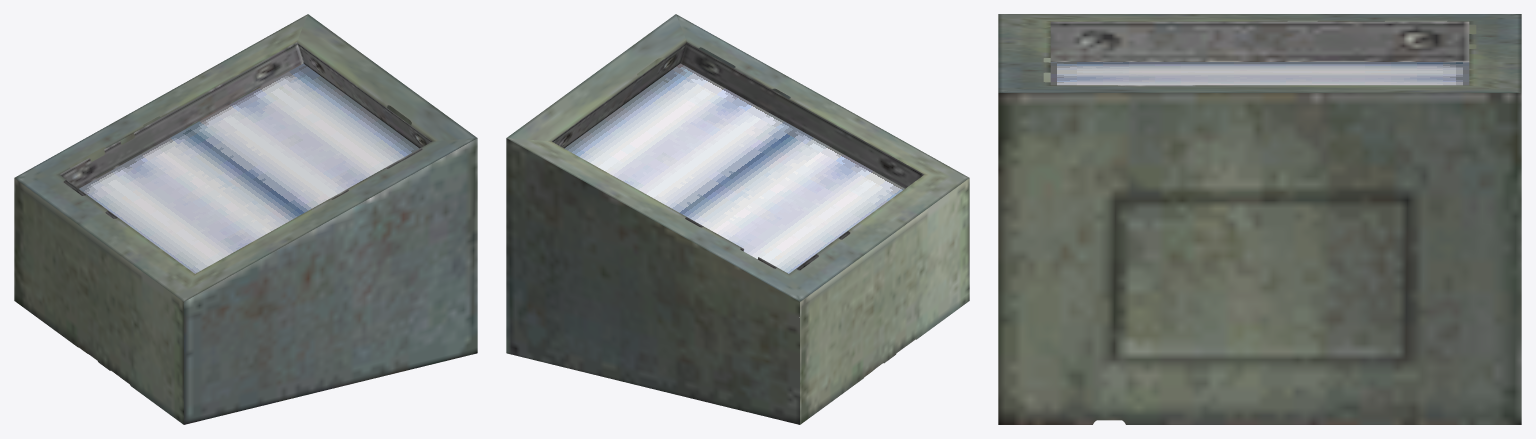
Rendered from ground_light.fbx.
The picture shows the model from 3 angles, left to right: view 1: azimuth 30°, elevation 25°; view 2: azimuth 150°, elevation 25°; view 3: azimuth 270°, elevation 25°; orthographic projection. The views are drawn at different scales.
Parts seen in each view (by area): view 1: mesh_0, mesh_1; view 2: mesh_0, mesh_1; view 3: mesh_0, mesh_1.
Part boxes in pixels (<box>): mesh_0: <box>14,14,477,424</box>; mesh_1: <box>79,63,419,273</box>; mesh_0: <box>506,14,969,424</box>; mesh_1: <box>564,63,904,273</box>; mesh_0: <box>998,14,1521,424</box>; mesh_1: <box>1050,62,1469,85</box>.
Size of the model in its own units: 20 by 14 by 20.
2 materials, 2 textured.
